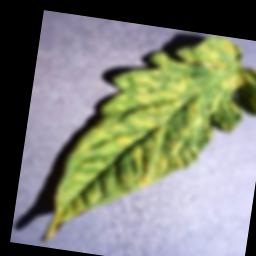Leaf_Mold: (35, 13, 256, 256)
